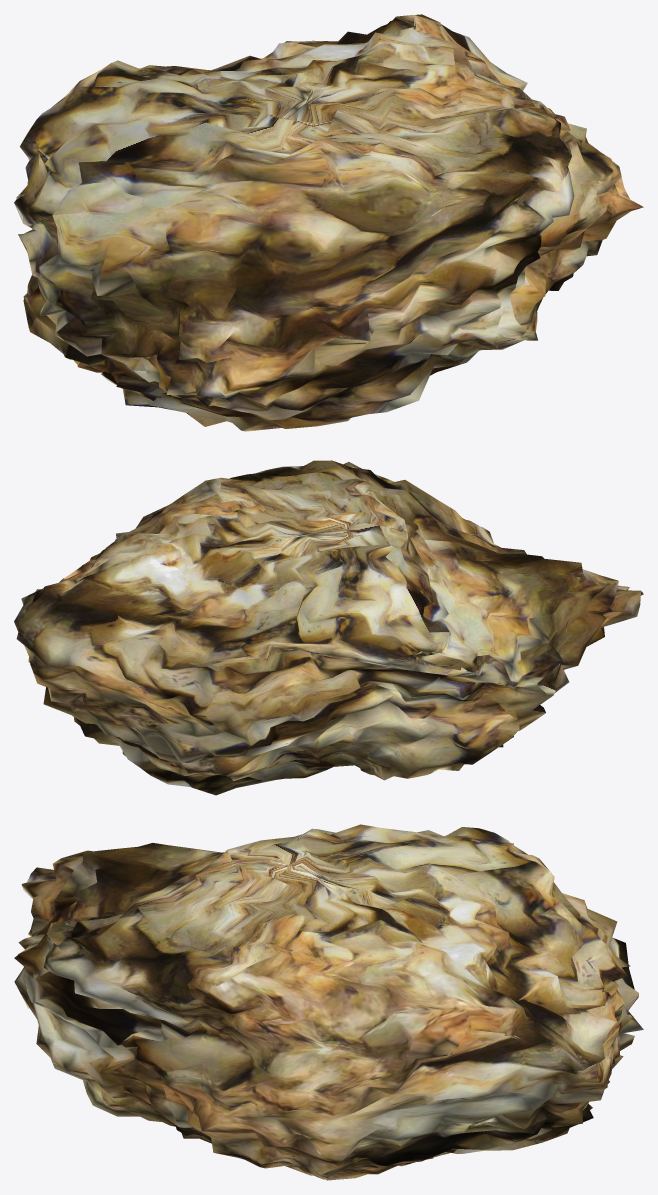
Rendered from Condritas.FBX.
3 views of the same model, one above another, from view 1: azimuth 30°, elevation 25°; view 2: azimuth 150°, elevation 25°; view 3: azimuth 270°, elevation 25° (orthographic). The views are drawn at different scales.
Visible parts, largest first — view 1: GeoSphere001; view 2: GeoSphere001; view 3: GeoSphere001.
Boxes of the visible parts, <box> form: GeoSphere001: <box>14,14,643,431</box>; GeoSphere001: <box>14,460,643,795</box>; GeoSphere001: <box>14,824,643,1180</box>.
Bounding box in the file's own units: 84.57 × 36.56 × 84.2.
Materials: 1 (1 with a texture image).
